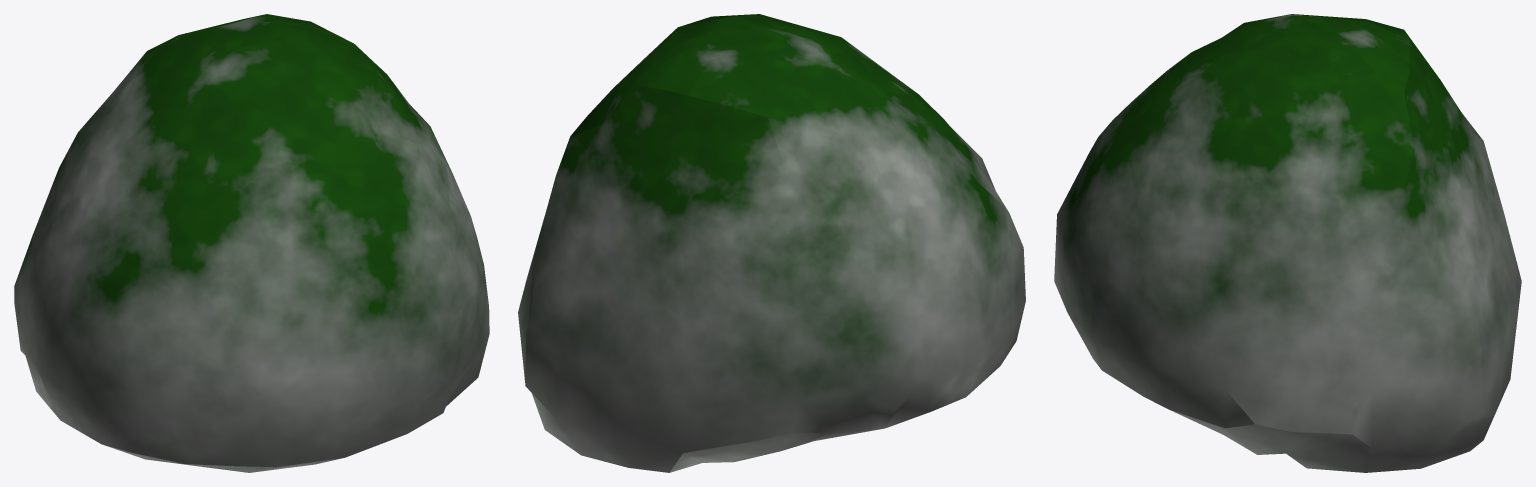
Rendered from rock_6.fbx.
3 views of the same model, side by side, from view 1: azimuth 30°, elevation 25°; view 2: azimuth 150°, elevation 25°; view 3: azimuth 270°, elevation 25° (orthographic). The views are drawn at different scales.
Visible parts, largest first — view 1: rock.007; view 2: rock.007; view 3: rock.007.
Boxes of the visible parts, x1,y1,x2,y2 form: rock.007: [14, 14, 489, 472]; rock.007: [518, 14, 1025, 472]; rock.007: [1054, 14, 1521, 472].
Size of the model in its own units: 65.29 by 57.22 by 63.28.
